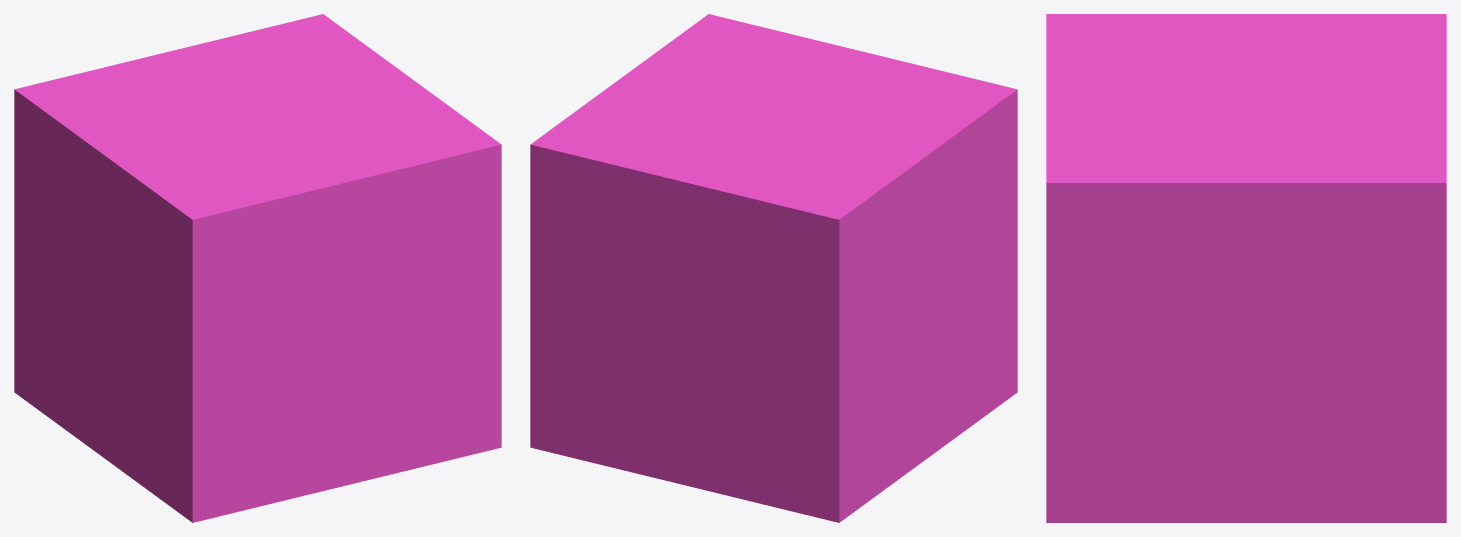
File: wood_harvester_lvl03.glb
3 renders of one model, left to right at view 1: azimuth 30°, elevation 25°; view 2: azimuth 150°, elevation 25°; view 3: azimuth 270°, elevation 25°, orthographic. The views are drawn at different scales.
Parts seen in each view (by area): view 1: COL_BOX_BODY; view 2: COL_BOX_BODY; view 3: COL_BOX_BODY.
Boxes of the visible parts, box(x1,y1,x2,y2) form: COL_BOX_BODY: box(14, 14, 501, 522); COL_BOX_BODY: box(530, 14, 1017, 522); COL_BOX_BODY: box(1046, 14, 1446, 522).
Bounding box in the file's own units: 0.96 × 0.9 × 0.96.
